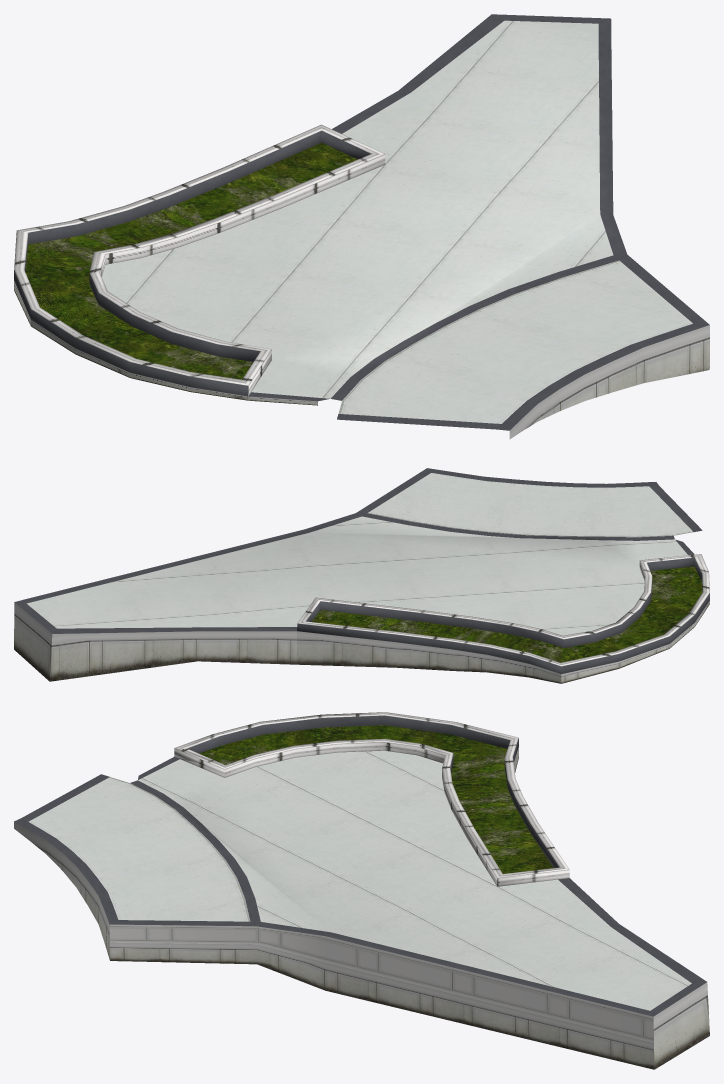
The model's file is STA20_26.FBX.
3 views of the same model, one above another, from view 1: azimuth 30°, elevation 25°; view 2: azimuth 150°, elevation 25°; view 3: azimuth 270°, elevation 25° (orthographic). The views are drawn at different scales.
Parts seen in each view (by area): view 1: STA20_26; view 2: STA20_26; view 3: STA20_26.
Boxes of the visible parts, x1,y1,x2,y2 form: STA20_26: (14,14,709,439); STA20_26: (14,468,709,683); STA20_26: (14,712,709,1069).
Bounding box in the file's own units: 33.22 × 3.47 × 33.22.
